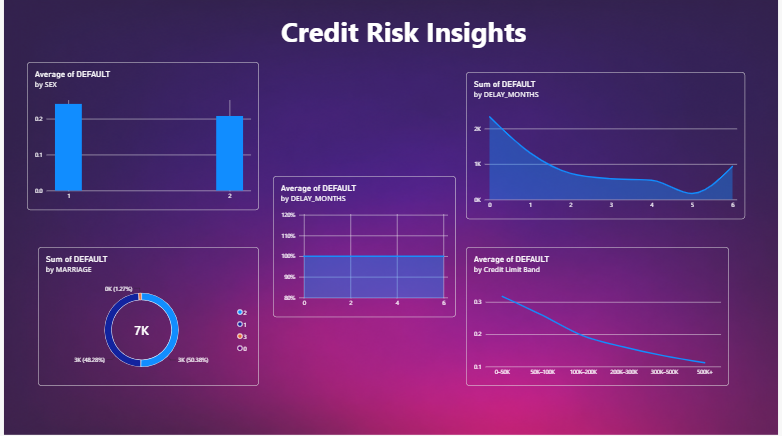

This screenshot's page, from the dashboard's own definition file:
{"tool":"powerbi","page":{"name":"Page 2","canvas":[1920,1080],"ordinal":1},"visuals":[{"type":"textbox","box":[440.6,95,1075.7,105.8],"z":0},{"type":"clusteredColumnChart","fields":{"Category":["CustomerData.SEX"],"Y":["Avg(CustomerData.DEFAULT)"]},"box":[172.8,200.9,501.1,319.7],"z":1},{"type":"donutChart","fields":{"Category":["CustomerData.MARRIAGE"],"Y":["Sum(CustomerData.DEFAULT)"]},"box":[196.6,600.5,477.4,300.2],"z":2},{"type":"lineChart","fields":{"Category":["CustomerData.Credit Limit Band"],"Y":["Avg(CustomerData.DEFAULT)"]},"box":[1121,600.5,568.1,300.2],"z":3},{"type":"areaChart","fields":{"Category":["CustomerData.DELAY_MONTHS"],"Y":["Sum(CustomerData.DEFAULT)"]},"box":[1121,222.5,602.6,317.5],"z":4},{"type":"hundredPercentStackedAreaChart","fields":{"Category":["CustomerData.DELAY_MONTHS"],"Y":["Avg(CustomerData.DEFAULT)"]},"box":[704.2,447.1,395.3,304.6],"z":5}]}

Visuals, with their boxes in screenshot pixels (x1, y1, x2, y2), scaled from the page's 1920x1080 canvas onto the 782x436 screenshot:
textbox: 179/38/618/81
clusteredColumnChart - CustomerData.SEX x Avg(CustomerData.DEFAULT): 70/81/274/210
donutChart - CustomerData.MARRIAGE x Sum(CustomerData.DEFAULT): 80/242/275/364
lineChart - CustomerData.Credit Limit Band x Avg(CustomerData.DEFAULT): 457/242/688/364
areaChart - CustomerData.DELAY_MONTHS x Sum(CustomerData.DEFAULT): 457/90/702/218
hundredPercentStackedAreaChart - CustomerData.DELAY_MONTHS x Avg(CustomerData.DEFAULT): 287/180/448/303
